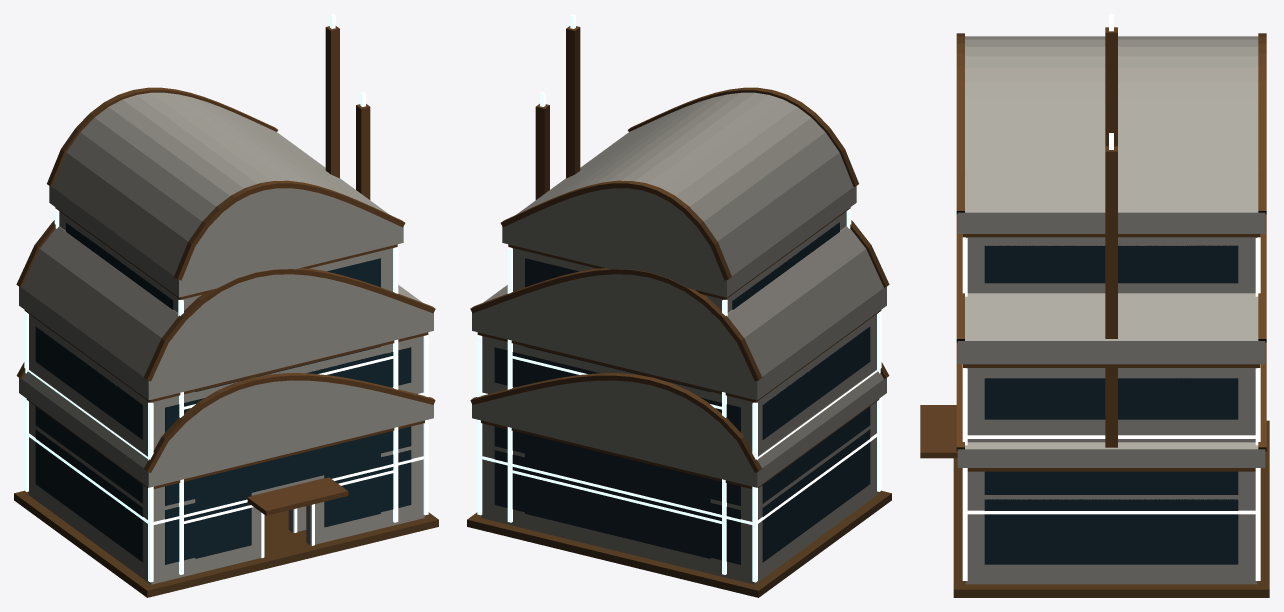
The model's file is shaddai_realm_town_ocean_v01.glb.
3 renders of one model, left to right at view 1: azimuth 30°, elevation 25°; view 2: azimuth 150°, elevation 25°; view 3: azimuth 270°, elevation 25°, orthographic. The views are drawn at different scales.
Visible parts, largest first — view 1: shaddai_bld_ocean_inn, shaddai_bld_ocean_apartments, shaddai_bld_ocean_workshop, shaddai_bld_ocean_home; view 2: shaddai_bld_ocean_inn, shaddai_bld_ocean_apartments, shaddai_bld_ocean_workshop; view 3: shaddai_bld_ocean_inn, shaddai_bld_ocean_apartments, shaddai_bld_ocean_workshop.
Boxes of the visible parts, <box> form: shaddai_bld_ocean_inn: <box>14,92,438,597</box>; shaddai_bld_ocean_apartments: <box>47,14,408,589</box>; shaddai_bld_ocean_workshop: <box>16,362,435,583</box>; shaddai_bld_ocean_home: <box>247,497,306,544</box>; shaddai_bld_ocean_inn: <box>467,92,891,597</box>; shaddai_bld_ocean_apartments: <box>497,14,858,590</box>; shaddai_bld_ocean_workshop: <box>470,362,889,583</box>; shaddai_bld_ocean_inn: <box>953,133,1269,597</box>; shaddai_bld_ocean_apartments: <box>920,14,1269,571</box>; shaddai_bld_ocean_workshop: <box>956,278,1266,584</box>.
Size of the model in its own units: 19.2 by 29.72 by 16.8.
